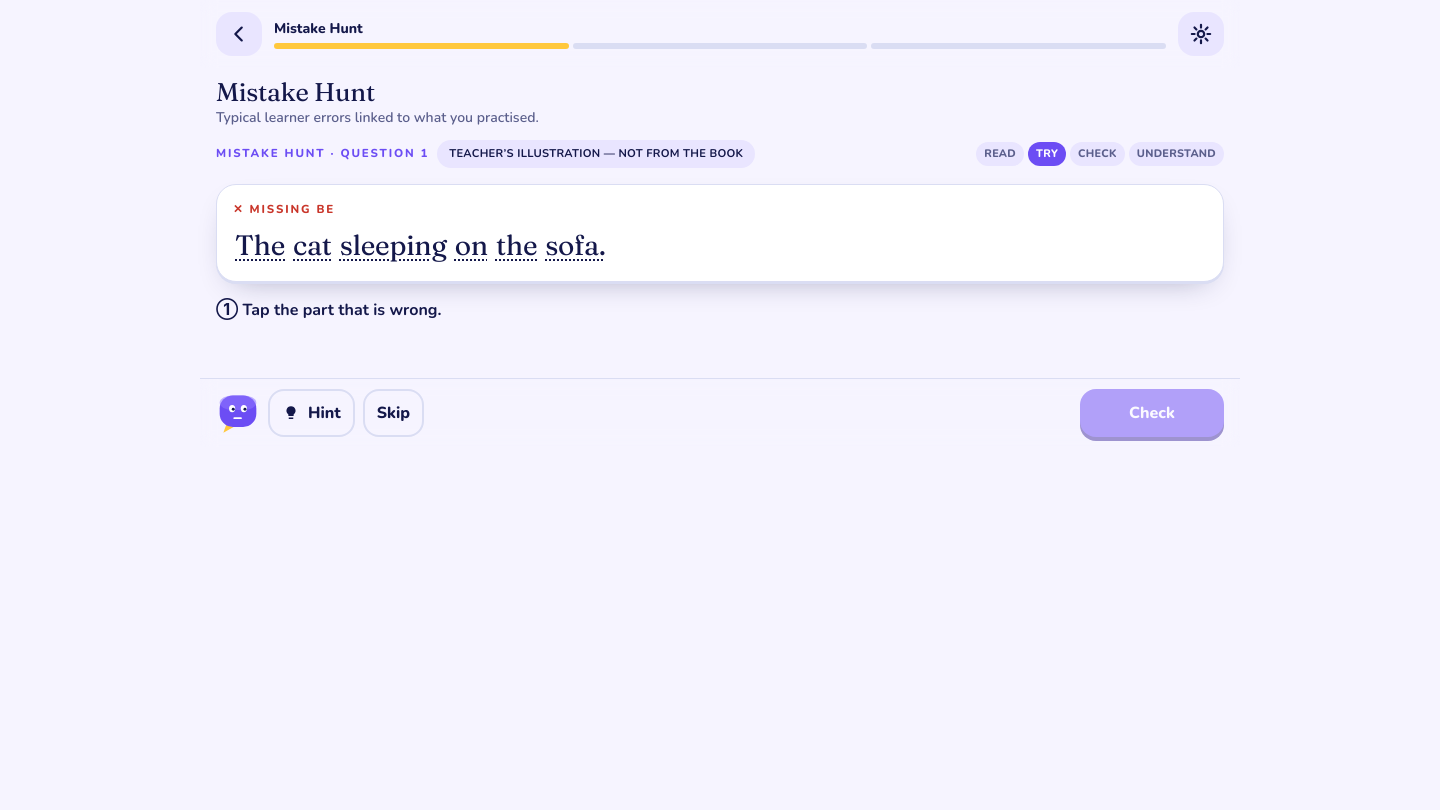
Test: sample unit (original content) › renders every explanation node and plays an exercise and the Mistake Hunt
Earlier steps of the test are not shown.
Click the button "sleeping": {"x": 393, "y": 246} x1=338 y1=226 x2=449 y2=265
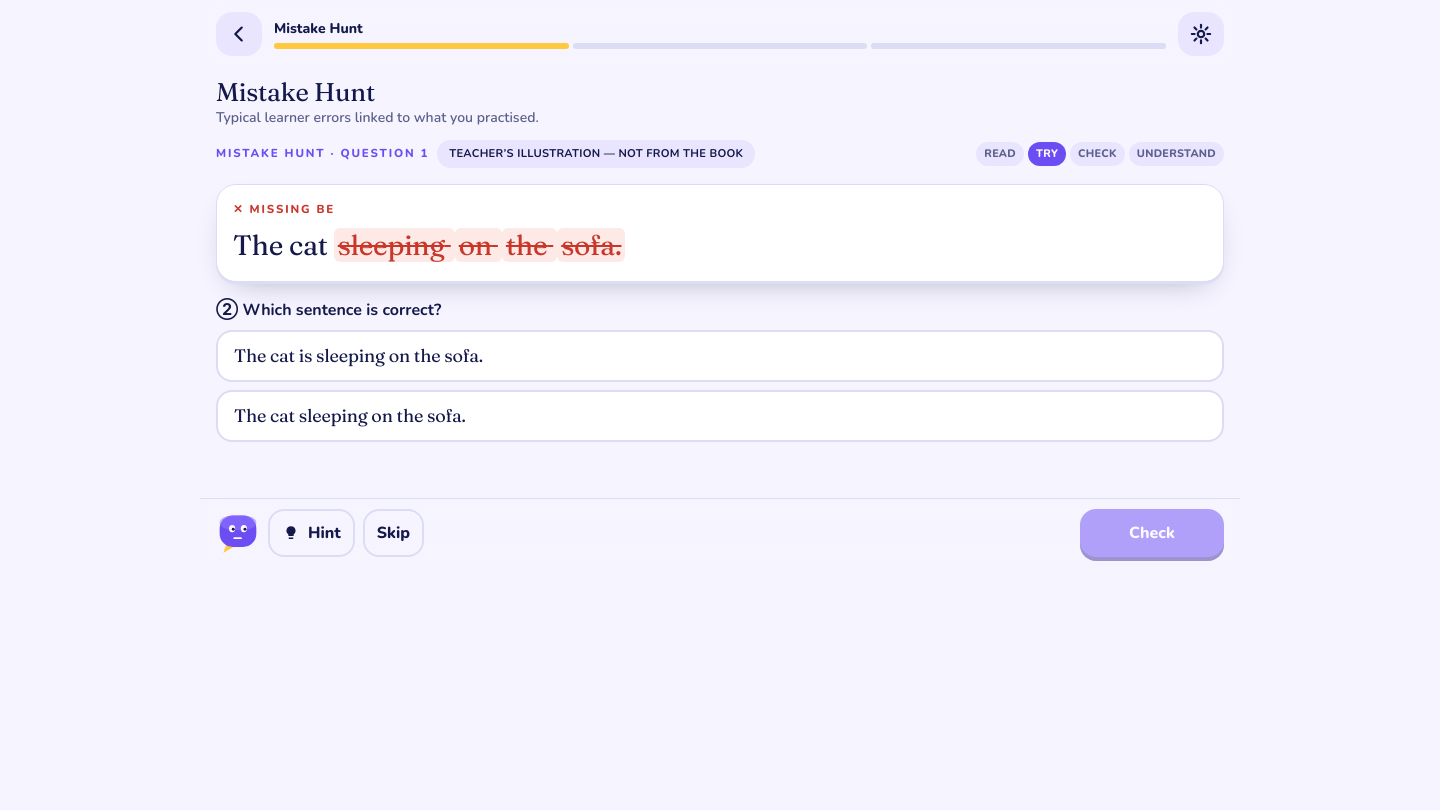
Click the radio button with test id "fix-right": {"x": 358, "y": 355} x1=216 y1=330 x2=1224 y2=382
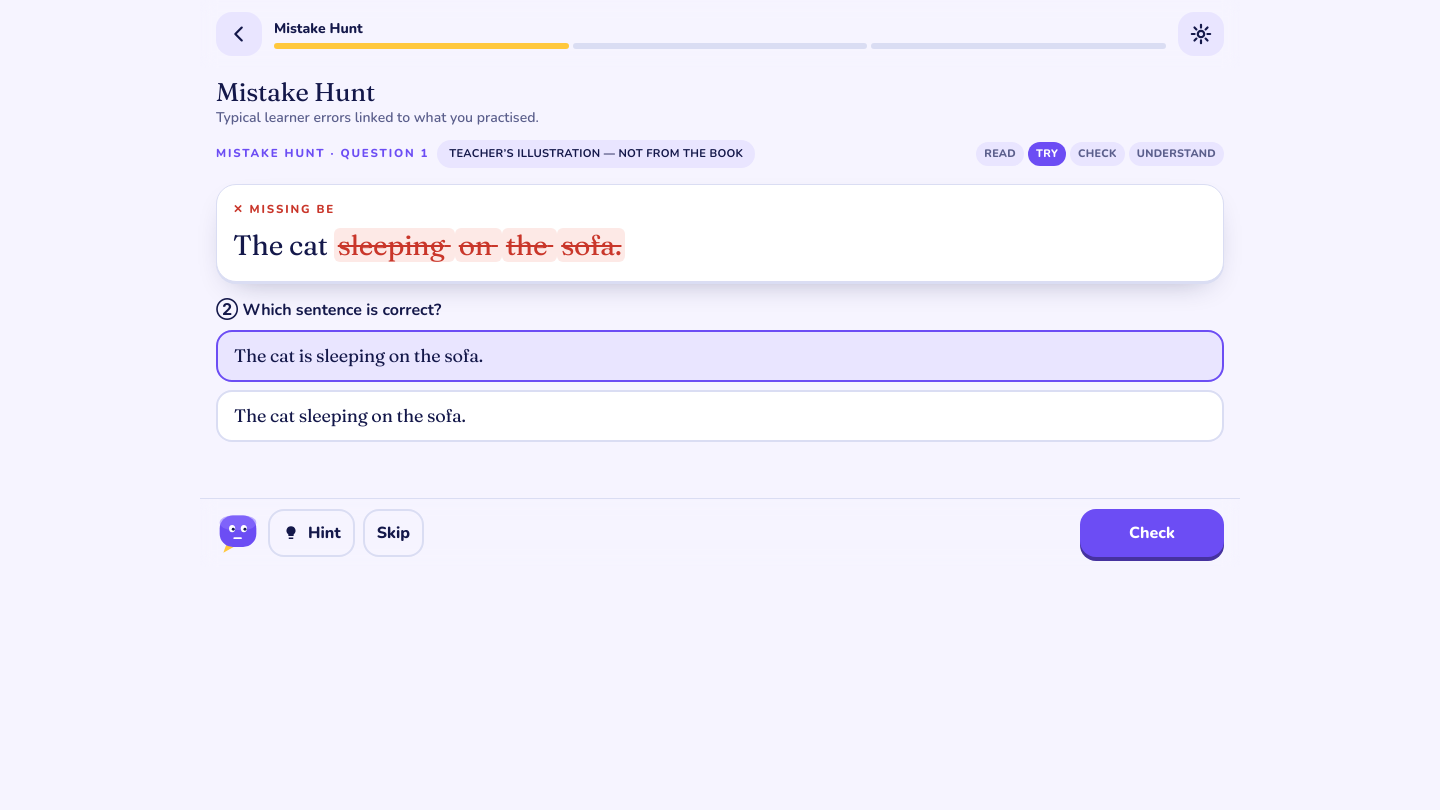
Click the button with test id "check-btn": {"x": 1152, "y": 533} x1=1080 y1=509 x2=1224 y2=557
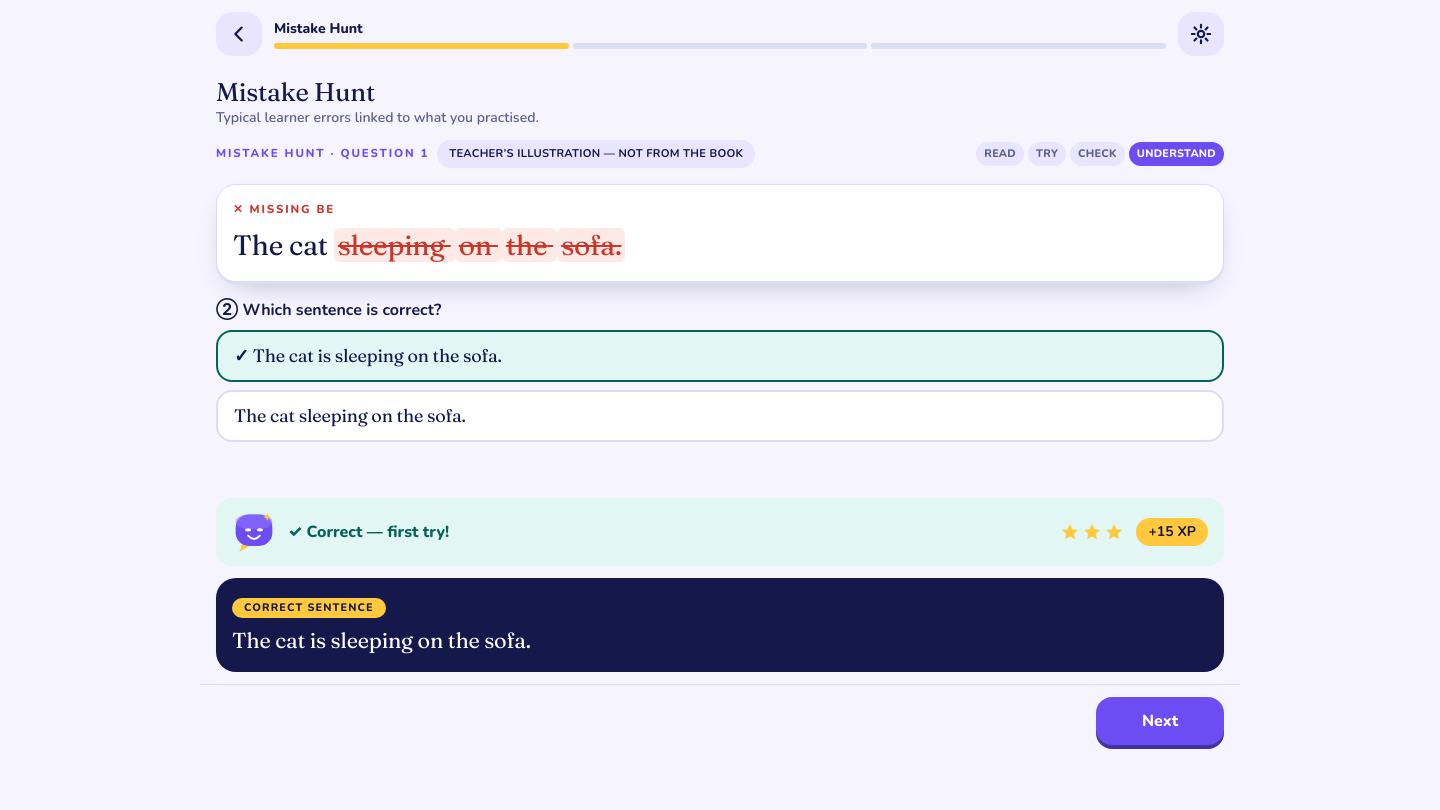
Expected: the text "✓ Correct — first try!" is shown, x1=288 y1=521 x2=449 y2=543
